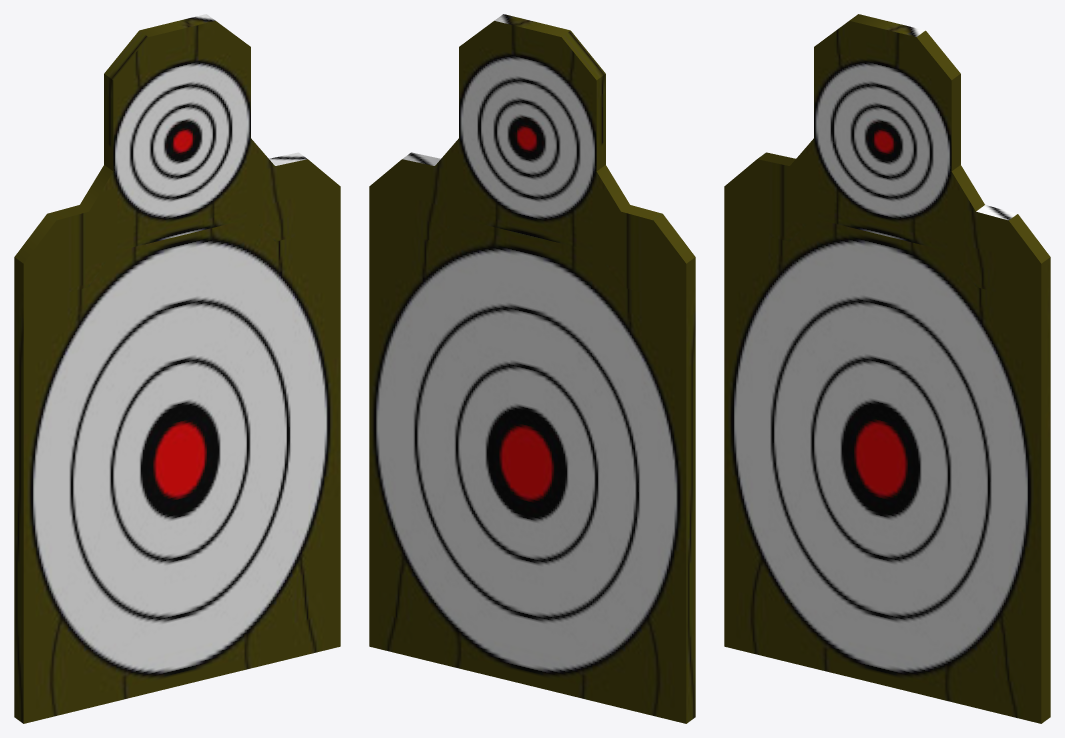
Rendered from Finished Target Board.fbx.
3 renders of one model, left to right at view 1: azimuth 30°, elevation 25°; view 2: azimuth 150°, elevation 25°; view 3: azimuth 330°, elevation 25°, orthographic.
Visible parts, largest first — view 1: pCube3; view 2: pCube3; view 3: pCube3.
Part boxes in pixels (<box>): pCube3: <box>14,14,340,723</box>; pCube3: <box>369,14,695,723</box>; pCube3: <box>724,14,1050,723</box>.
Size of the model in its own units: 12.59 by 24.91 by 0.6344.
Materials: 1 (1 with a texture image).
